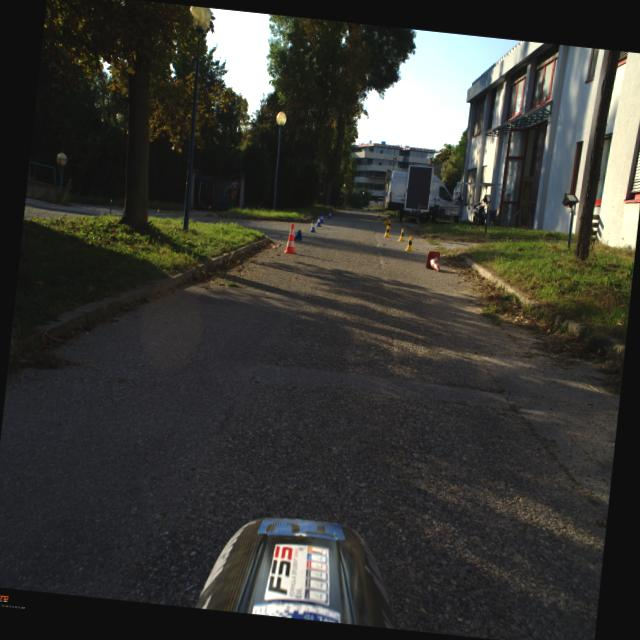blue_cone: (293, 228, 303, 240), (310, 219, 316, 232), (315, 216, 322, 227), (318, 213, 324, 220), (327, 210, 332, 218), (320, 214, 324, 222)
large_orange_cone: (284, 222, 298, 254), (425, 250, 442, 272)
yellow_cone: (404, 235, 414, 251), (397, 228, 406, 242), (382, 225, 390, 238), (387, 220, 392, 230), (382, 214, 387, 223), (385, 220, 391, 227), (376, 212, 381, 220)
